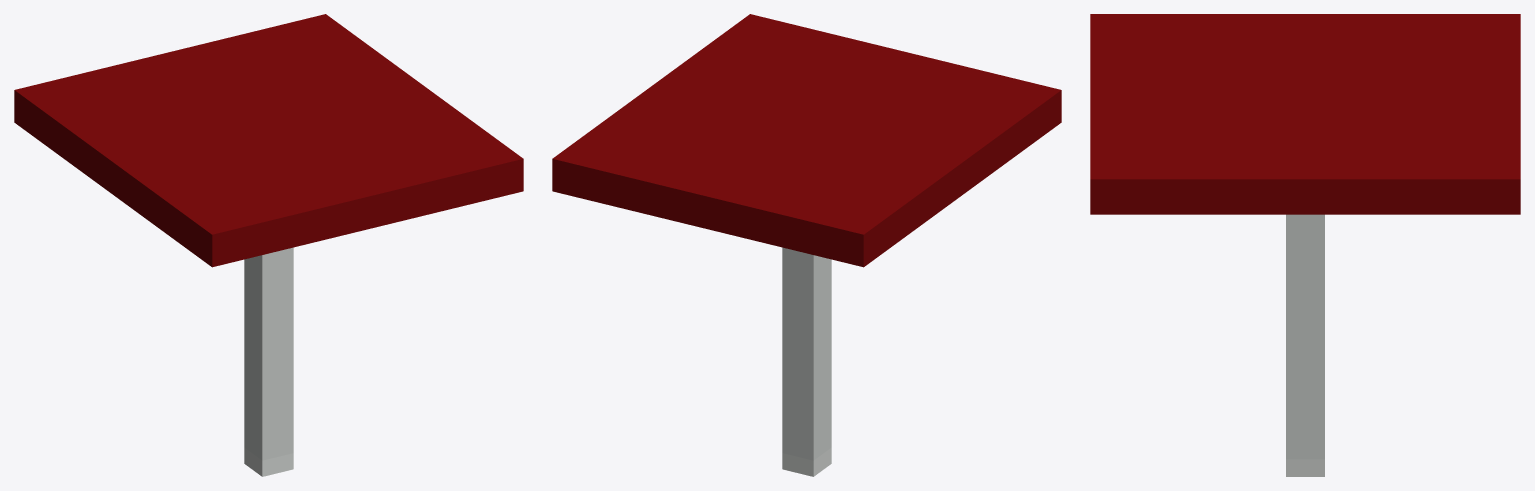
Rendered from table_dispenser_nolegs.dae.
3 renders of one model, left to right at view 1: azimuth 30°, elevation 25°; view 2: azimuth 150°, elevation 25°; view 3: azimuth 270°, elevation 25°, orthographic. The views are drawn at different scales.
Parts seen in each view (by area): view 1: TableDispenser; view 2: TableDispenser; view 3: TableDispenser.
Boxes of the visible parts, bbox=[...] form: TableDispenser: bbox=[14, 14, 523, 476]; TableDispenser: bbox=[552, 14, 1061, 476]; TableDispenser: bbox=[1090, 14, 1520, 476].
Bounding box in the file's own units: 0.7371 × 0.8108 × 0.774.
